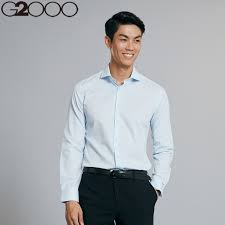F_shirt: (56, 63, 175, 200)
